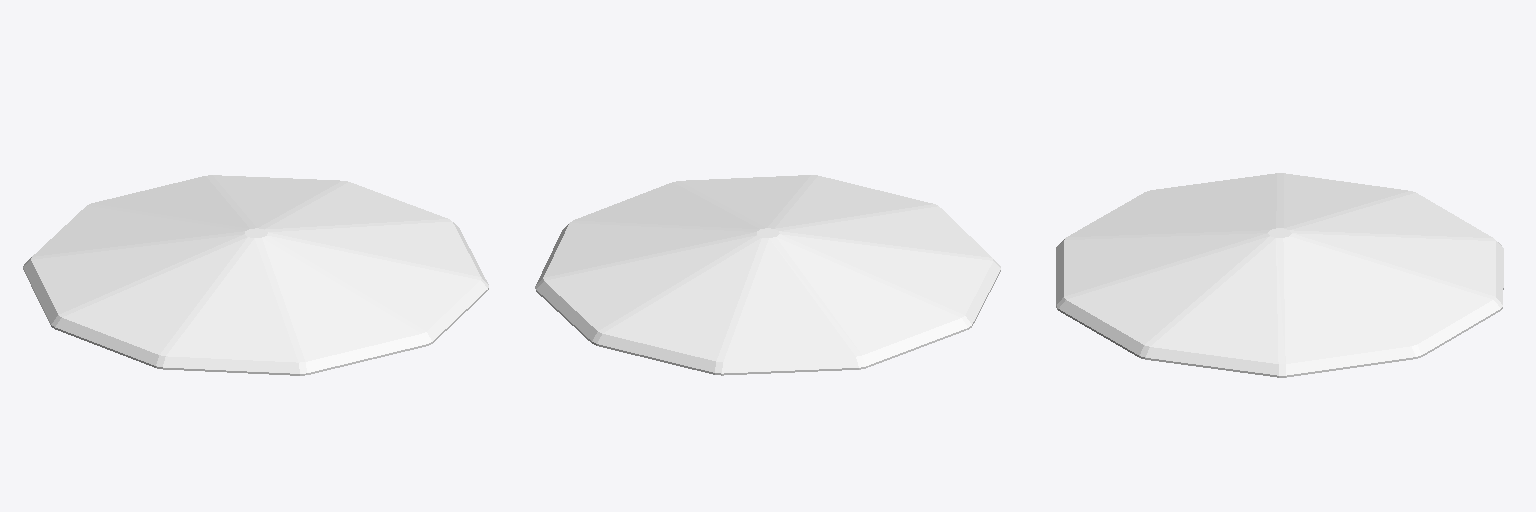
Rendered from Roof.obj.
The picture shows the model from 3 angles: view 1: azimuth 30°, elevation 25°; view 2: azimuth 150°, elevation 25°; view 3: azimuth 270°, elevation 25°; orthographic projection.
Visible parts, largest first — view 1: Roof; view 2: Roof; view 3: Roof.
Boxes of the visible parts, box(x1,y1,x2,y2) form: Roof: box(23, 175, 488, 375); Roof: box(535, 175, 1000, 375); Roof: box(1056, 173, 1503, 377).
Bounding box in the file's own units: 24.44 × 2.62 × 23.38.